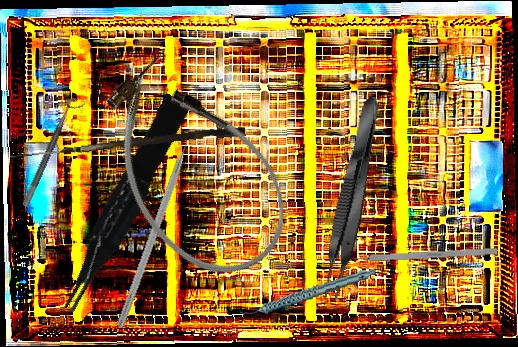Cannula: (74, 37, 313, 302)
Chopper: (116, 122, 208, 333)
Fixation Ring: (21, 95, 86, 212)
Handpiece: (237, 268, 378, 317)
Hook Surgical: (10, 122, 246, 169), (339, 247, 498, 264)
Tissue Forceps: (45, 93, 200, 316), (316, 93, 388, 304)
